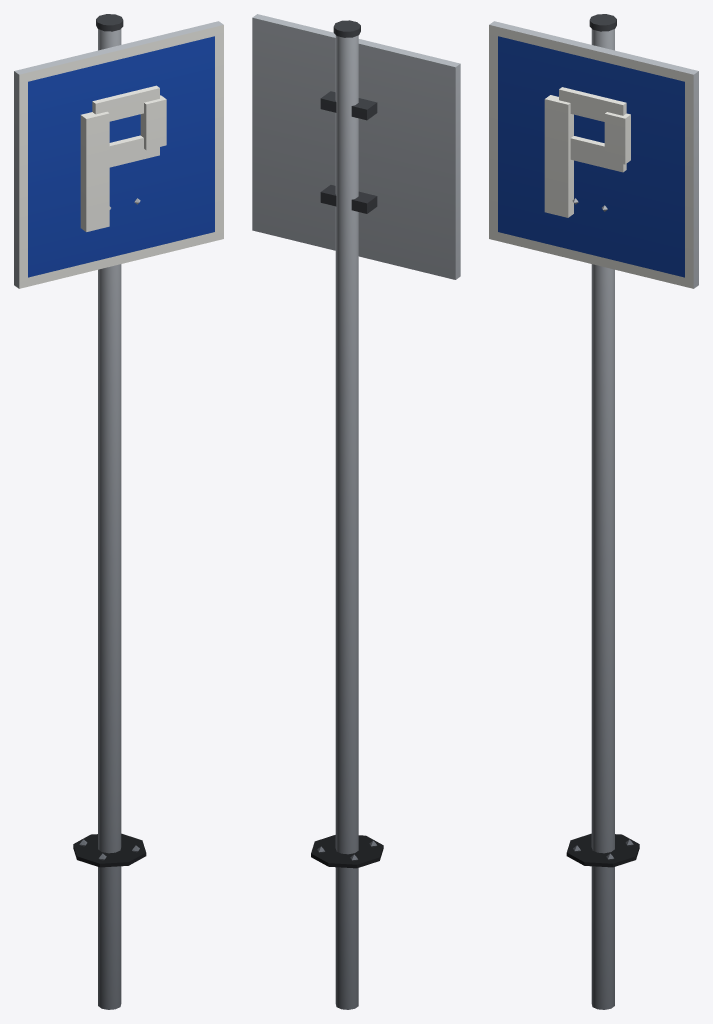
File: Sign_Parking.fbx
The picture shows the model from 3 angles, left to right: view 1: azimuth 30°, elevation 25°; view 2: azimuth 150°, elevation 25°; view 3: azimuth 330°, elevation 25°; orthographic projection.
Visible parts, largest first — view 1: Sign_Parking_LOD0; view 2: Sign_Parking_LOD0; view 3: Sign_Parking_LOD0.
Part boxes in pixels (box(x1,y1,x2,y2)): Sign_Parking_LOD0: box(14, 14, 223, 1009); Sign_Parking_LOD0: box(252, 14, 460, 1009); Sign_Parking_LOD0: box(489, 14, 698, 1009).
Size of what is drawn, in the model's own units: 0.7 by 3.22 by 0.224.
1 material, 1 textured.
